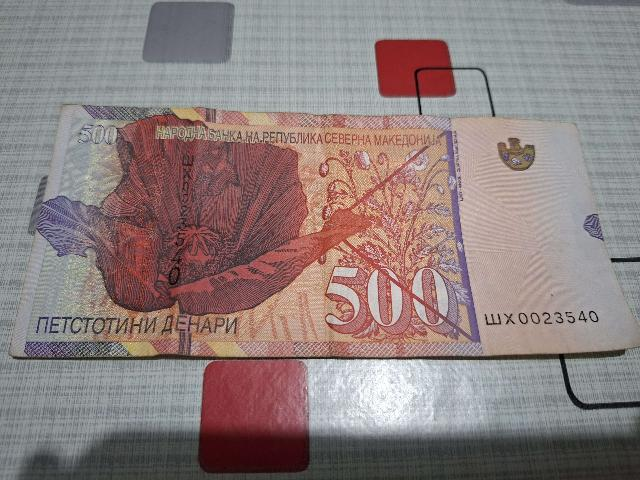500_note: (11, 106, 639, 357)
